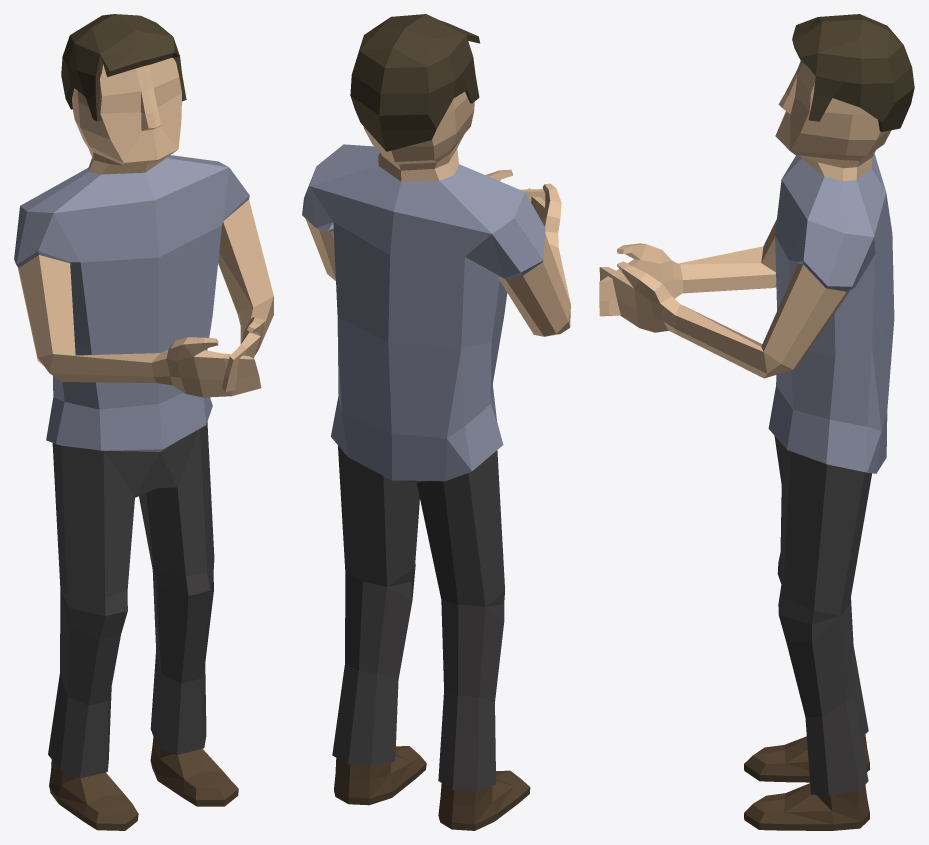
File: Male_Crowd_Clapping.glb
The picture shows the model from 3 angles, left to right: view 1: azimuth 30°, elevation 25°; view 2: azimuth 150°, elevation 25°; view 3: azimuth 270°, elevation 25°; orthographic projection. The views are drawn at different scales.
Parts seen in each view (by area): view 1: Male_Crowd_Clapping; view 2: Male_Crowd_Clapping; view 3: Male_Crowd_Clapping.
Part boxes in pixels (x1,y1,x2,y2): Male_Crowd_Clapping: (14, 14, 273, 830); Male_Crowd_Clapping: (302, 14, 570, 830); Male_Crowd_Clapping: (599, 14, 914, 830).
Bounding box in the file's own units: 0.5735 × 1.79 × 0.6612.
